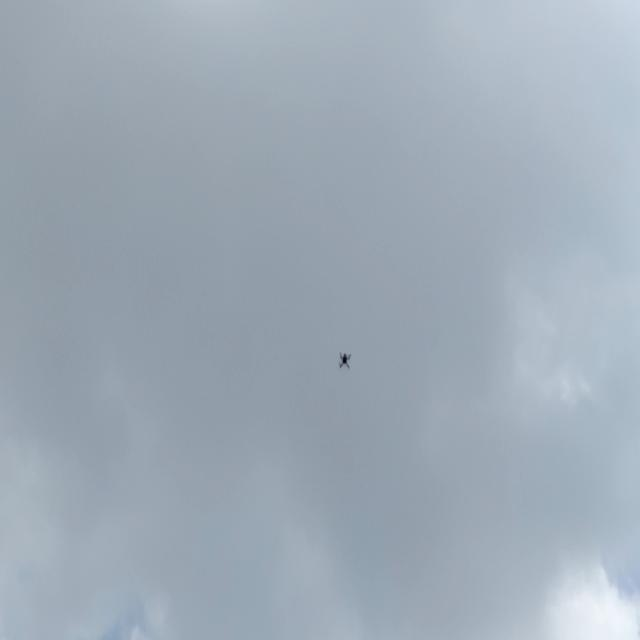drone: (332, 349, 358, 376)
